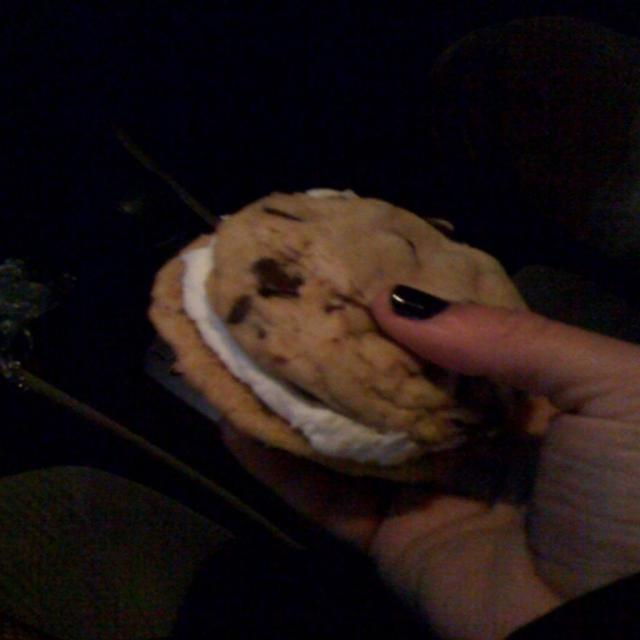Cookie: (154, 185, 536, 483)
